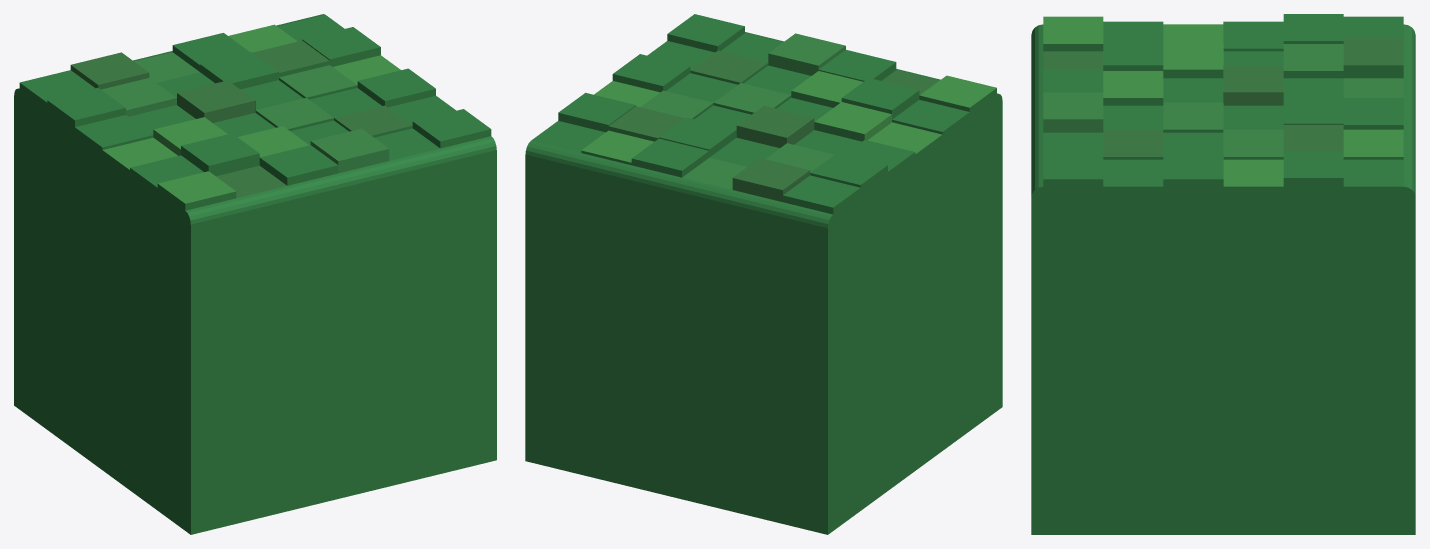
File: two_opp_bev.glb
3 views of the same model, side by side, from view 1: azimuth 30°, elevation 25°; view 2: azimuth 150°, elevation 25°; view 3: azimuth 270°, elevation 25° (orthographic). The views are drawn at different scales.
Parts seen in each view (by area): view 1: two_op_bev; view 2: two_op_bev; view 3: two_op_bev.
Boxes of the visible parts, x1,y1,x2,y2 form: two_op_bev: (14,14,496,534); two_op_bev: (525,14,1002,534); two_op_bev: (1031,14,1415,534).
Size of the model in its own units: 1 by 1.04 by 1.
